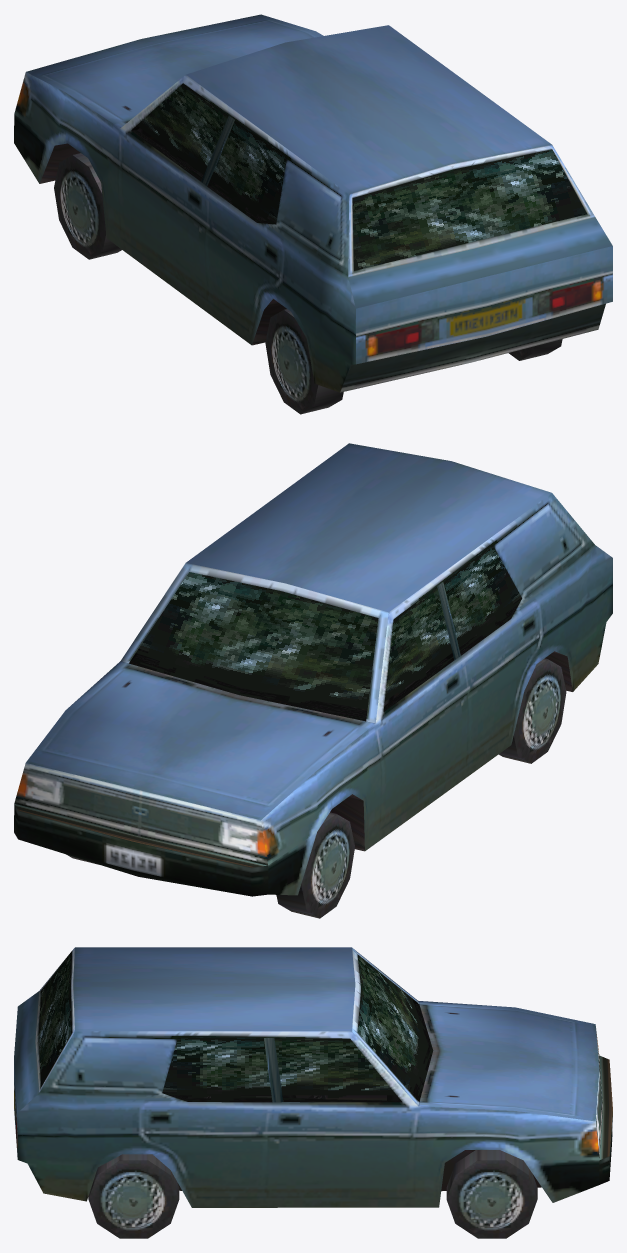
File: CIVCAR_V2.glb
The picture shows the model from 3 angles, top to bottom: view 1: azimuth 30°, elevation 25°; view 2: azimuth 150°, elevation 25°; view 3: azimuth 270°, elevation 25°; orthographic projection. The views are drawn at different scales.
Parts seen in each view (by area): view 1: CIVCAR_V2; view 2: CIVCAR_V2; view 3: CIVCAR_V2.
Boxes of the visible parts, x1=… form: CIVCAR_V2: x1=14, y1=14, x2=612, y2=414; CIVCAR_V2: x1=14, y1=443, x2=612, y2=918; CIVCAR_V2: x1=14, y1=947, x2=612, y2=1238.
Size of the model in its own units: 1.89 by 1.64 by 4.39.
2 materials, 2 textured.
